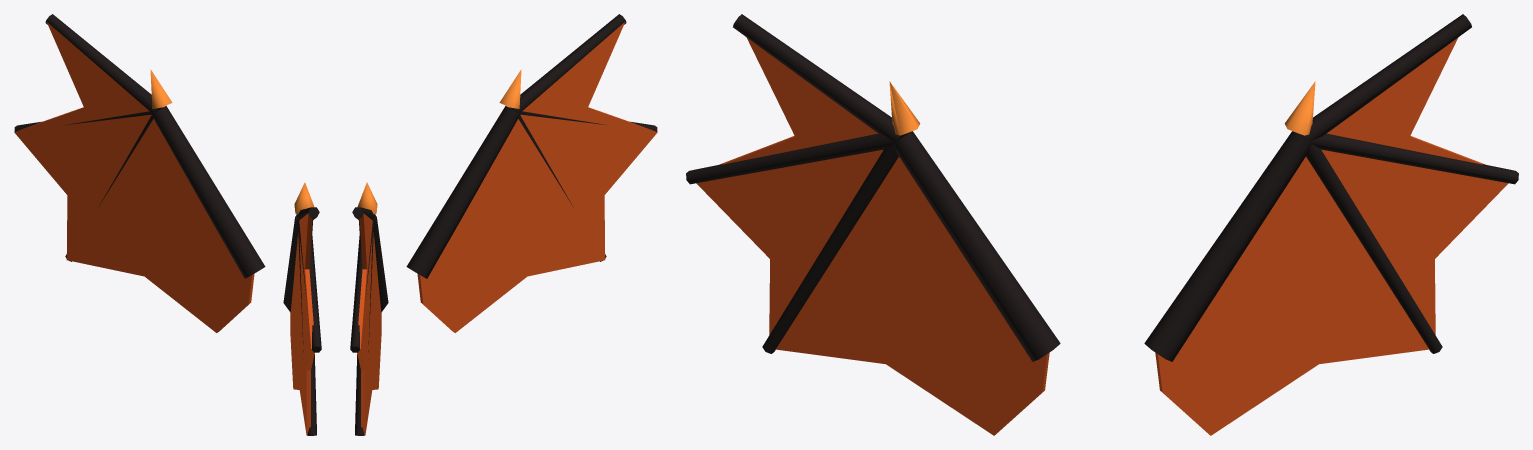
Rendered from back_ember_wings.glb.
3 renders of one model, left to right at view 1: azimuth 30°, elevation 25°; view 2: azimuth 150°, elevation 25°; view 3: azimuth 270°, elevation 25°, orthographic. The views are drawn at different scales.
Visible parts, largest first — view 1: Wing_L, Wing_R; view 2: Wing_R, Wing_L; view 3: Wing_L, Wing_R.
Boxes of the visible parts, bbox=[...] form: Wing_L: bbox=[14, 14, 265, 332]; Wing_R: bbox=[283, 182, 321, 435]; Wing_R: bbox=[406, 14, 657, 332]; Wing_L: bbox=[350, 182, 388, 435]; Wing_L: bbox=[1144, 14, 1518, 435]; Wing_R: bbox=[686, 14, 1060, 435].
Size of the model in its own units: 0.38 by 0.7953 by 1.63.
